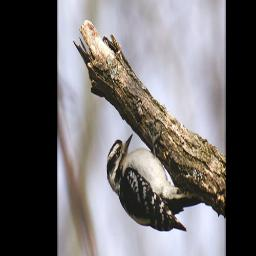Woodpecker: (100, 130, 204, 241)
